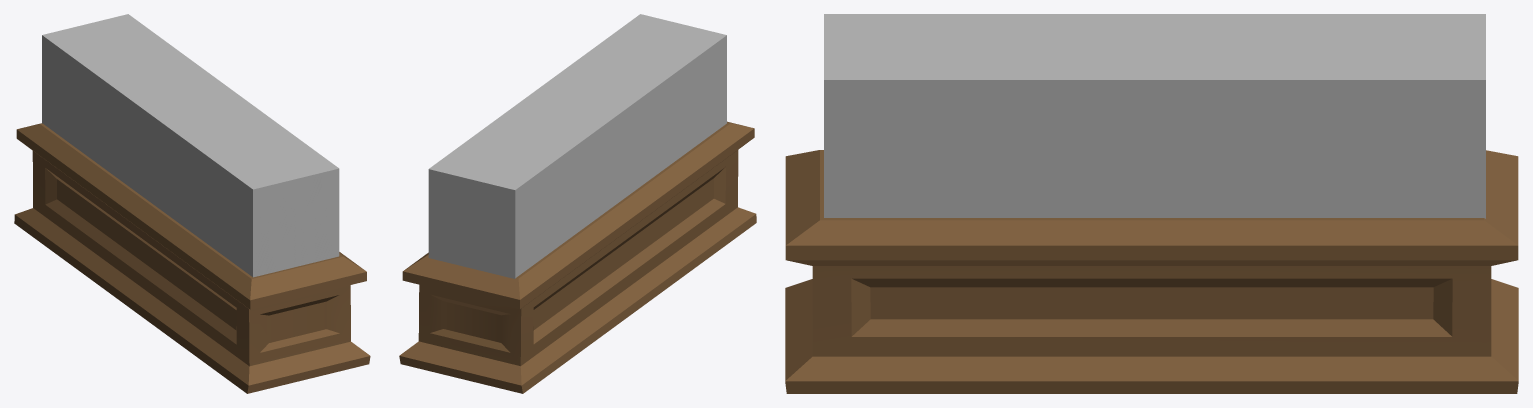
File: Fossils display.fbx
The picture shows the model from 3 angles, left to right: view 1: azimuth 30°, elevation 25°; view 2: azimuth 150°, elevation 25°; view 3: azimuth 270°, elevation 25°; orthographic projection. The views are drawn at different scales.
Parts seen in each view (by area): view 1: pCube64, pCube28; view 2: pCube64, pCube28; view 3: pCube64, pCube28.
Part boxes in pixels (left/top/right/bottom): pCube64: left=42, top=14, right=339, bottom=277; pCube28: left=14, top=123, right=370, bottom=393; pCube64: left=428, top=14, right=726, bottom=278; pCube28: left=399, top=121, right=756, bottom=393; pCube64: left=824, top=14, right=1485, bottom=218; pCube28: left=785, top=150, right=1518, bottom=393.
Size of the model in its own units: 1.94 by 2.89 by 6.39.
